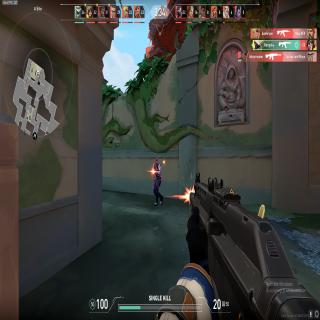ENEMY-BODY: (152, 157, 164, 206)
ENEMY-HEAD: (154, 158, 158, 166)
